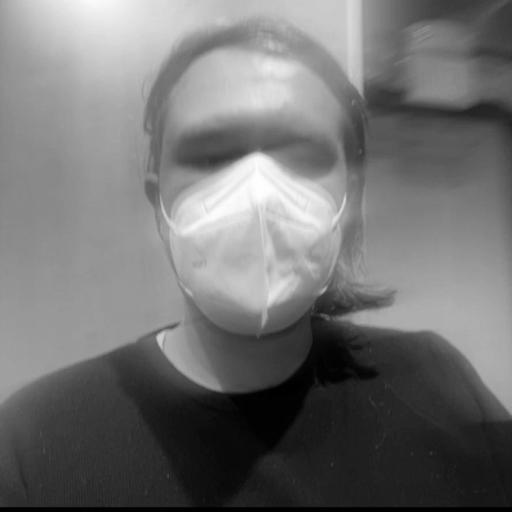mask: (118, 1, 423, 394)
